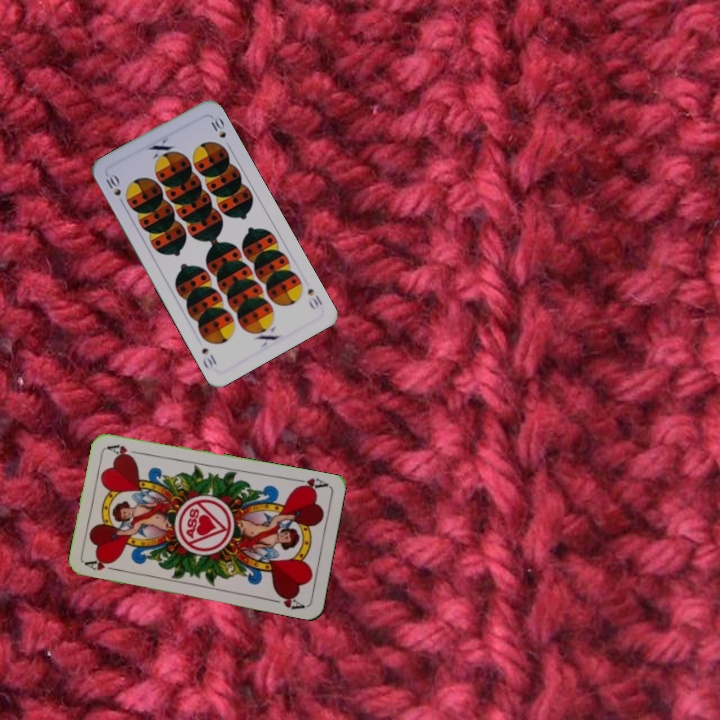HA: (290, 474, 330, 494), (82, 556, 123, 574)
S10: (102, 169, 124, 199), (303, 284, 325, 313)
